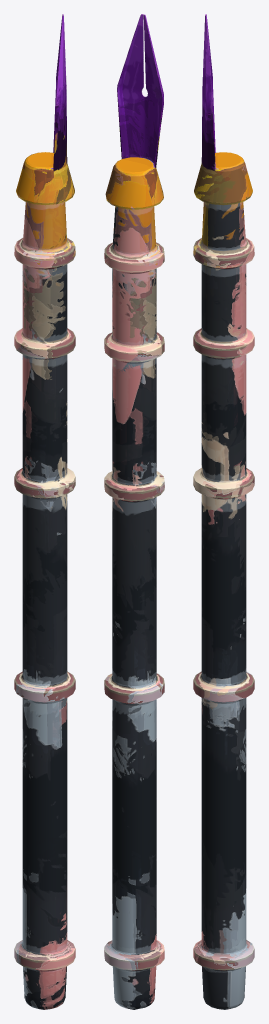
Rendered from Ink_Pen.glb.
The picture shows the model from 3 angles, left to right: view 1: azimuth 90°, elevation 25°; view 2: azimuth 150°, elevation 25°; view 3: azimuth 270°, elevation 25°; orthographic projection.
Parts seen in each view (by area): view 1: Ink_Pen_Base; view 2: Ink_Pen_Base; view 3: Ink_Pen_Base.
Boxes of the visible parts, <box> form: Ink_Pen_Base: <box>14,14,75,1009</box>; Ink_Pen_Base: <box>104,14,164,1009</box>; Ink_Pen_Base: <box>193,14,254,1009</box>.
Size of the model in its own units: 0.1907 by 3.42 by 0.1907.
1 material, 1 textured.
